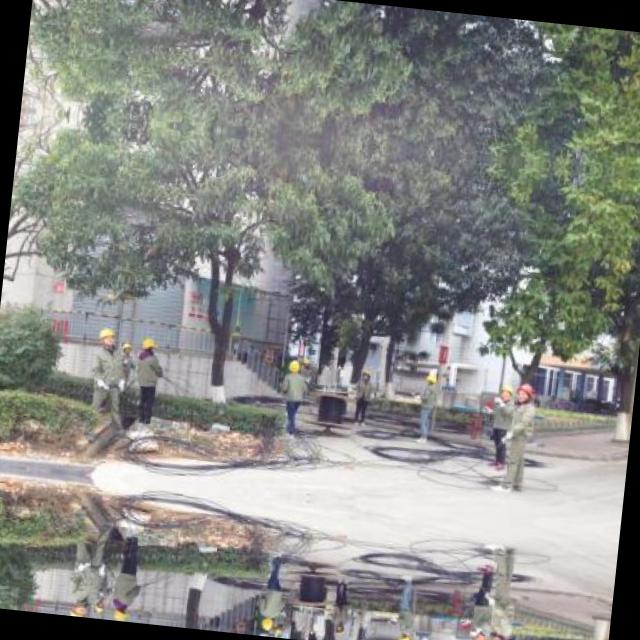helmet: (514, 382, 536, 408), (95, 324, 116, 348), (138, 333, 160, 355), (500, 382, 516, 406), (282, 356, 302, 375), (110, 603, 132, 619), (256, 614, 274, 633), (420, 370, 437, 389), (68, 600, 89, 614), (487, 630, 509, 640), (392, 628, 409, 640), (473, 628, 489, 640)
